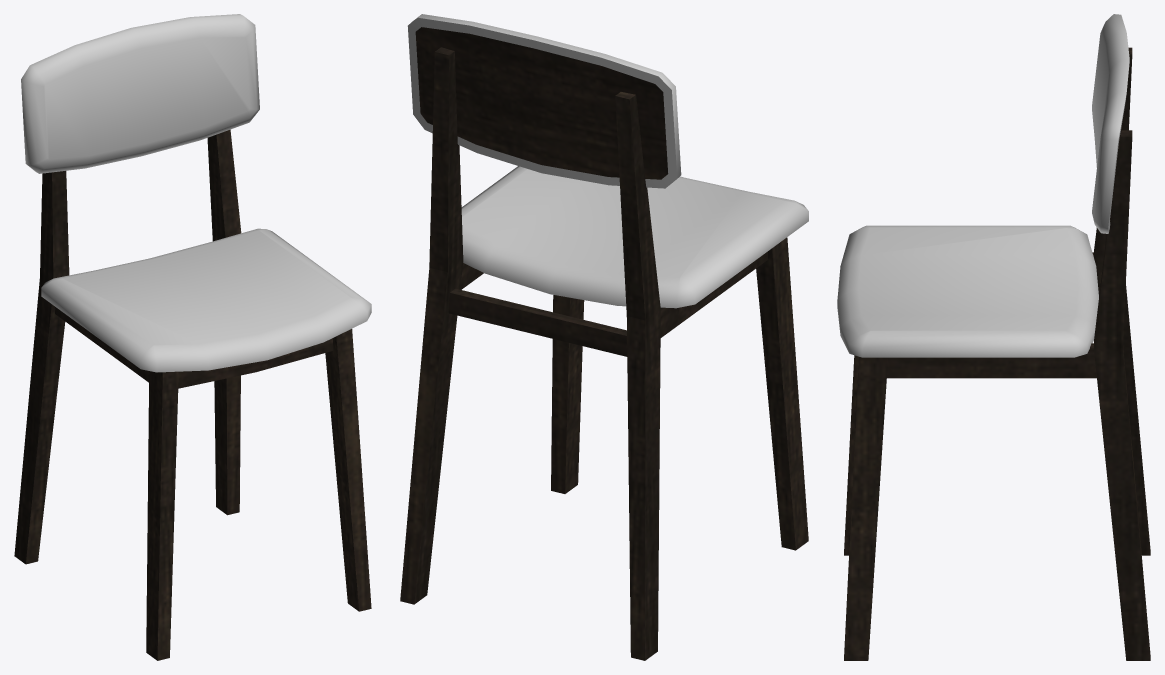
The model's file is chair_mp_4_2.obj.
3 views of the same model, side by side, from view 1: azimuth 30°, elevation 25°; view 2: azimuth 150°, elevation 25°; view 3: azimuth 270°, elevation 25° (orthographic). The views are drawn at different scales.
Visible parts, largest first — view 1: chair_mp_4_2; view 2: chair_mp_4_2; view 3: chair_mp_4_2.
Boxes of the visible parts, <box> form: chair_mp_4_2: <box>14,14,371,660</box>; chair_mp_4_2: <box>400,14,808,660</box>; chair_mp_4_2: <box>837,14,1150,660</box>.
Bounding box in the file's own units: 0.4763 × 1.01 × 0.5226.
